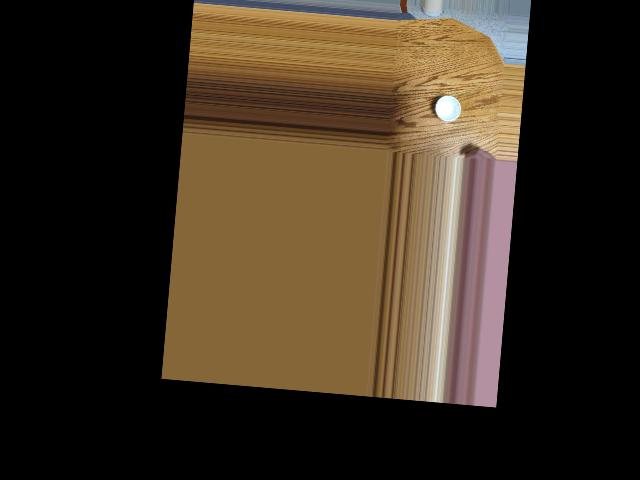cotage: (434, 94, 465, 126)
